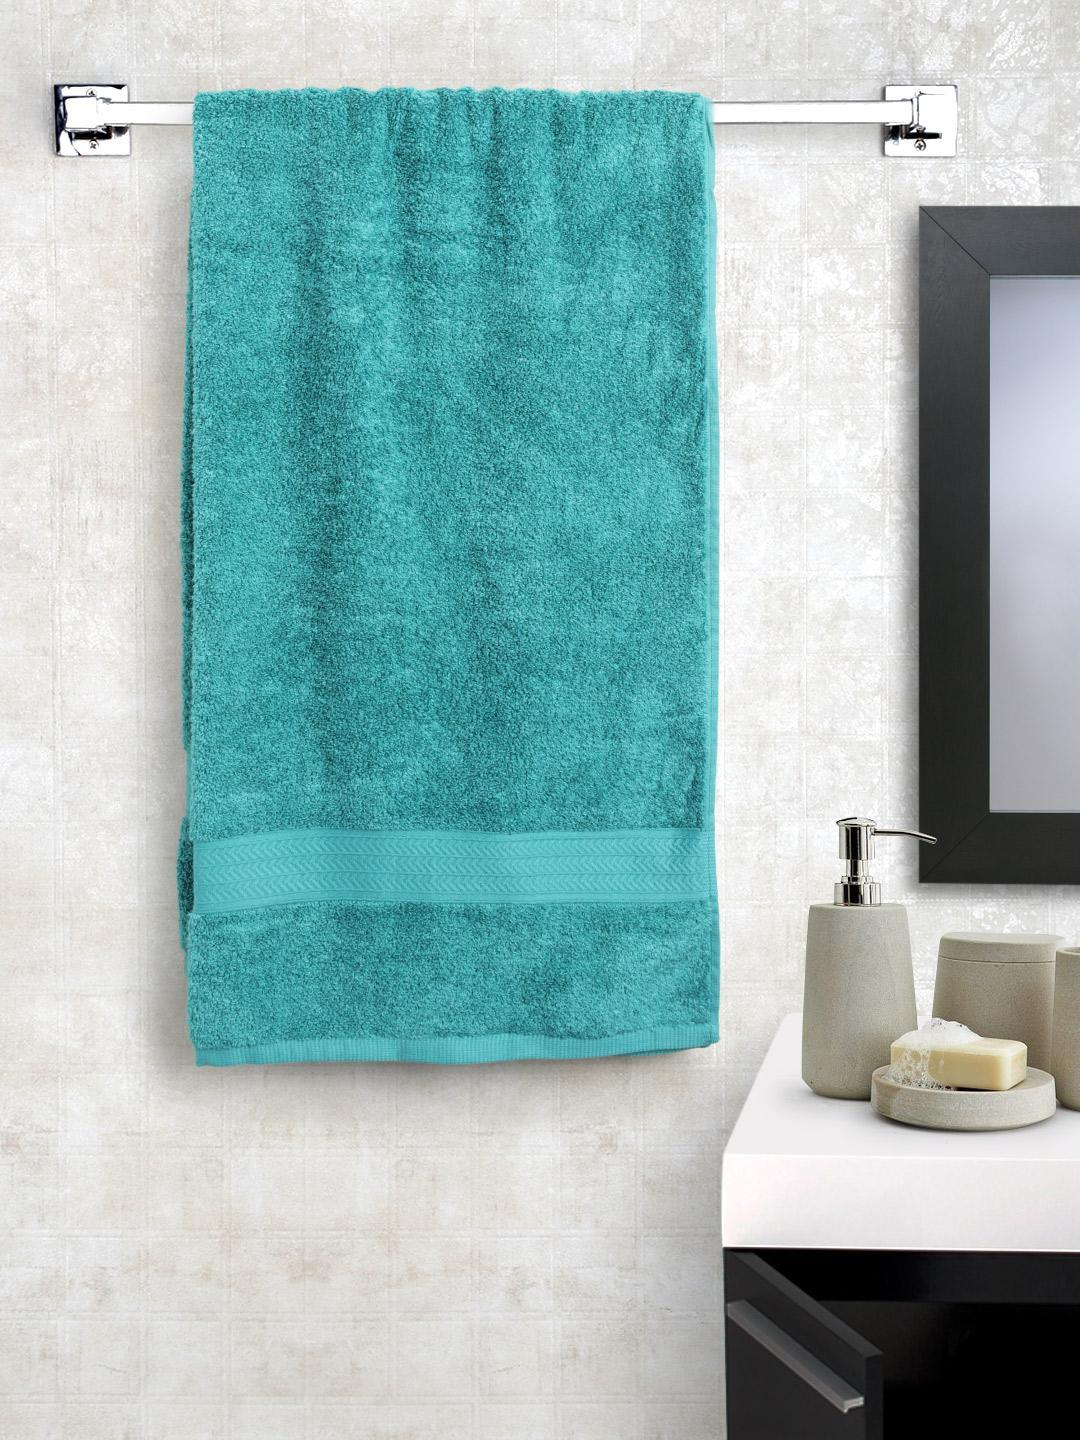towel: (180, 83, 740, 1070)
